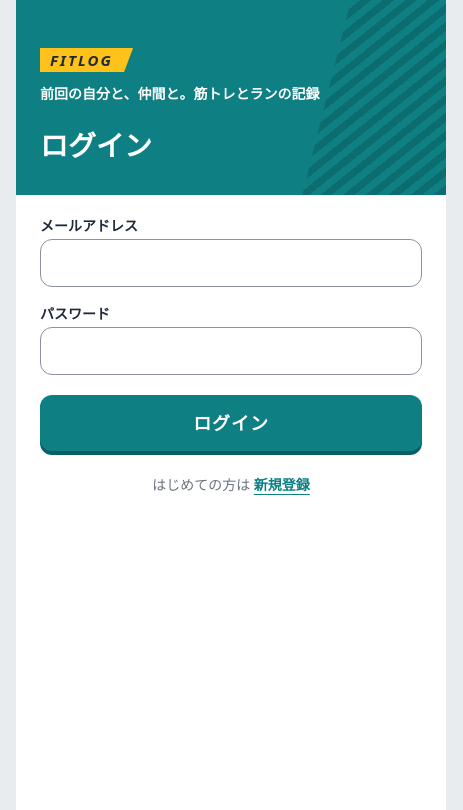
Test case: LoginForm（S-01） › 通信に失敗したら案内を出し、ボタンを押し直せる
Step 1. Type "a@example.com" into the field labelled "メールアドレス" → (231, 263), box x1=40 y1=239 x2=422 y2=287
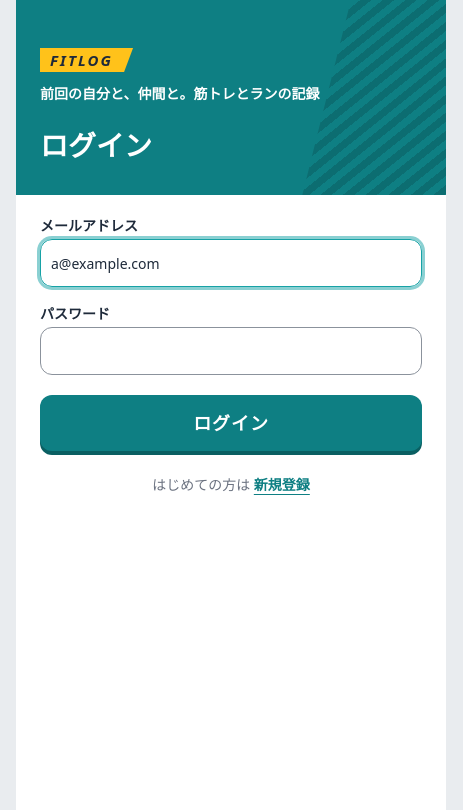
Step 2. Type "password123" into the password field labelled "パスワード" → (231, 351), box x1=40 y1=327 x2=422 y2=375
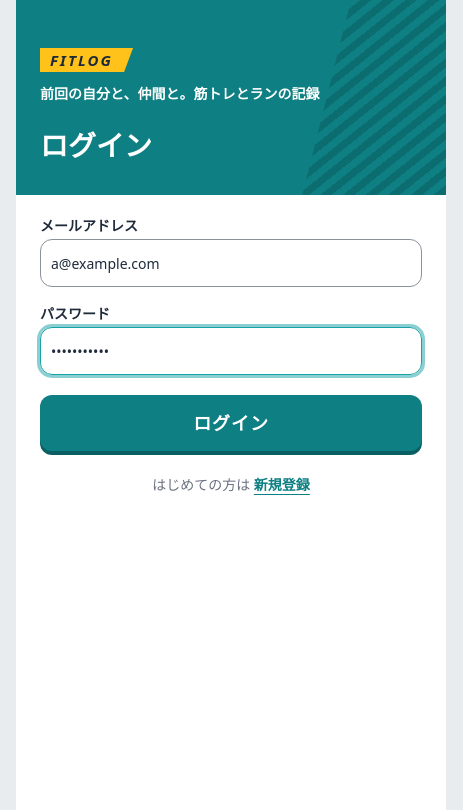
Step 3. Click the button "ログイン" → (231, 423), box x1=40 y1=395 x2=422 y2=451
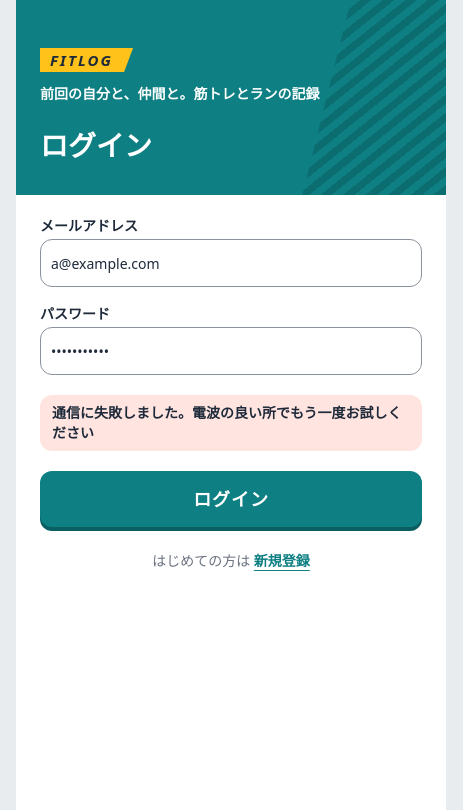
Expected: the button "ログイン" is enabled, x1=40 y1=471 x2=422 y2=527
Result: the message shows "通信に失敗しました" at x1=52 y1=403 x2=402 y2=442
